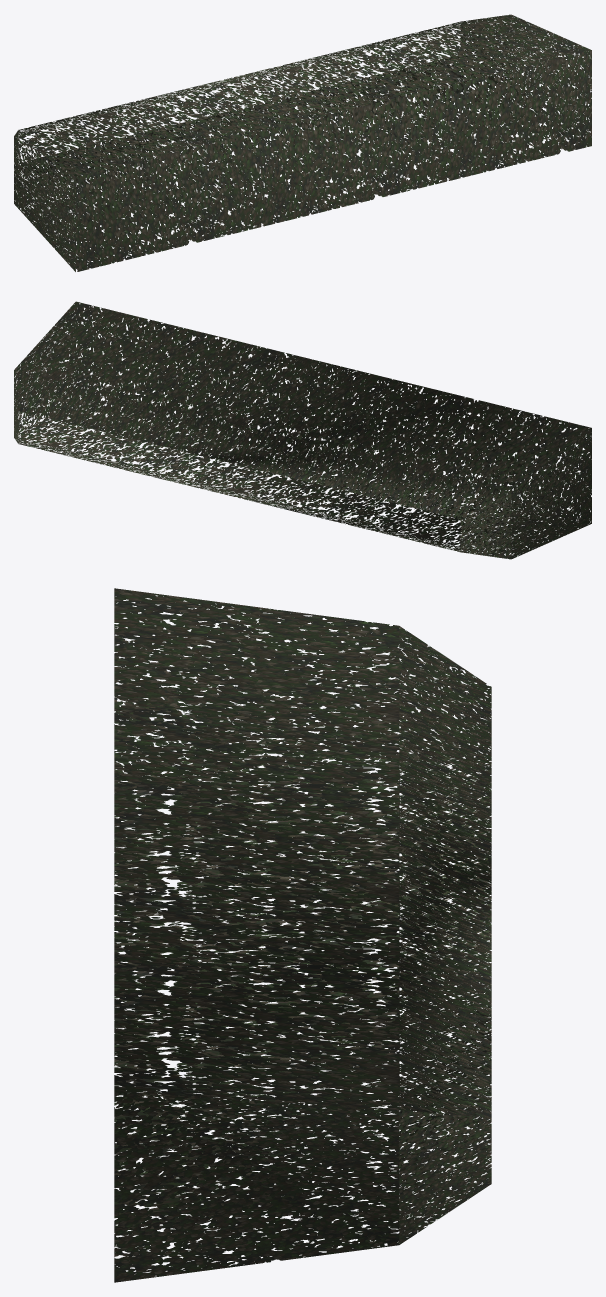
Rendered from nt_2020_foliage_hedge_boxy_2_set_LOD3.obj.
3 views of the same model, one above another, from view 1: azimuth 30°, elevation 25°; view 2: azimuth 150°, elevation 25°; view 3: azimuth 270°, elevation 25° (orthographic). The views are drawn at different scales.
Visible parts, largest first — view 1: mtl_p6_foliage_hedge_no_alpha; view 2: mtl_p6_foliage_hedge_no_alpha; view 3: mtl_p6_foliage_hedge_no_alpha.
Boxes of the visible parts, x1=… form: mtl_p6_foliage_hedge_no_alpha: x1=14, y1=14, x2=591, y2=271; mtl_p6_foliage_hedge_no_alpha: x1=14, y1=301, x2=591, y2=559; mtl_p6_foliage_hedge_no_alpha: x1=114, y1=588, x2=491, y2=1282.
Bounding box in the file's own units: 681 × 121 × 216.
